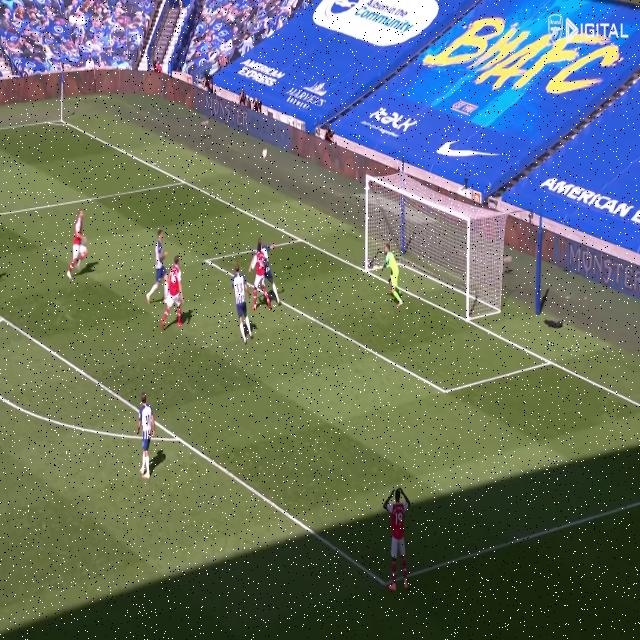Ball: (261, 147, 268, 160)
GoalKeeper: (382, 244, 406, 306)
TEAM 1: (380, 487, 410, 595), (162, 255, 190, 330), (67, 210, 93, 280), (150, 228, 168, 301), (251, 244, 267, 309)
TEAM 2: (230, 264, 255, 348), (136, 396, 156, 480), (262, 234, 279, 303)
